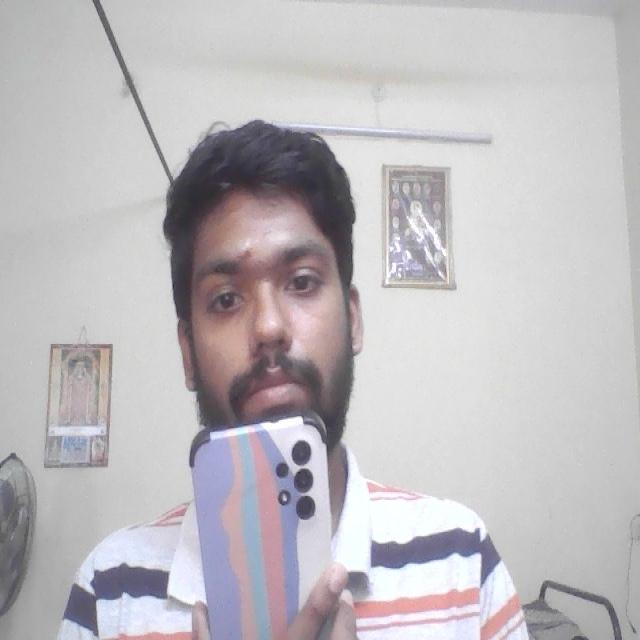Mobile: (186, 416, 343, 640)
